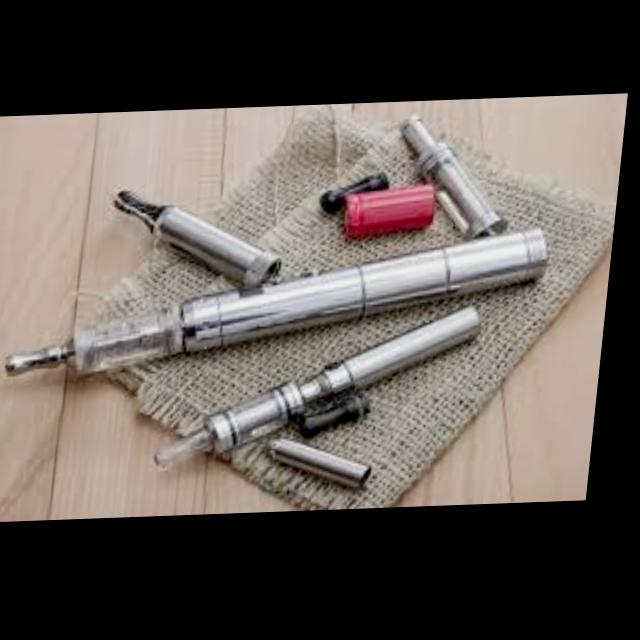vape: (9, 230, 557, 380), (162, 307, 492, 474)
